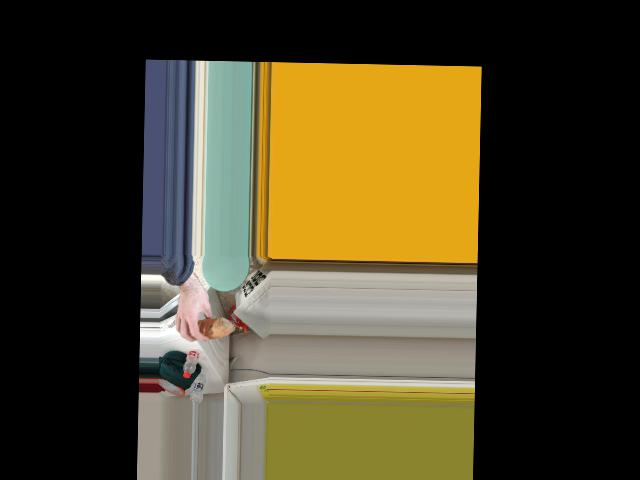sweet_potato: (190, 312, 224, 337)
